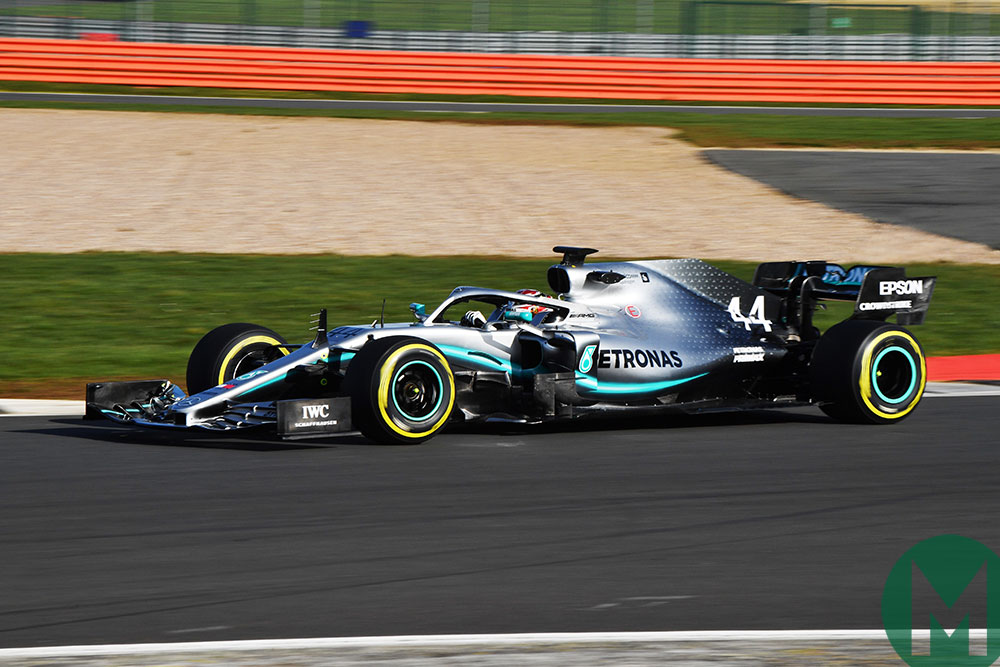f1_car: (65, 231, 941, 458)
